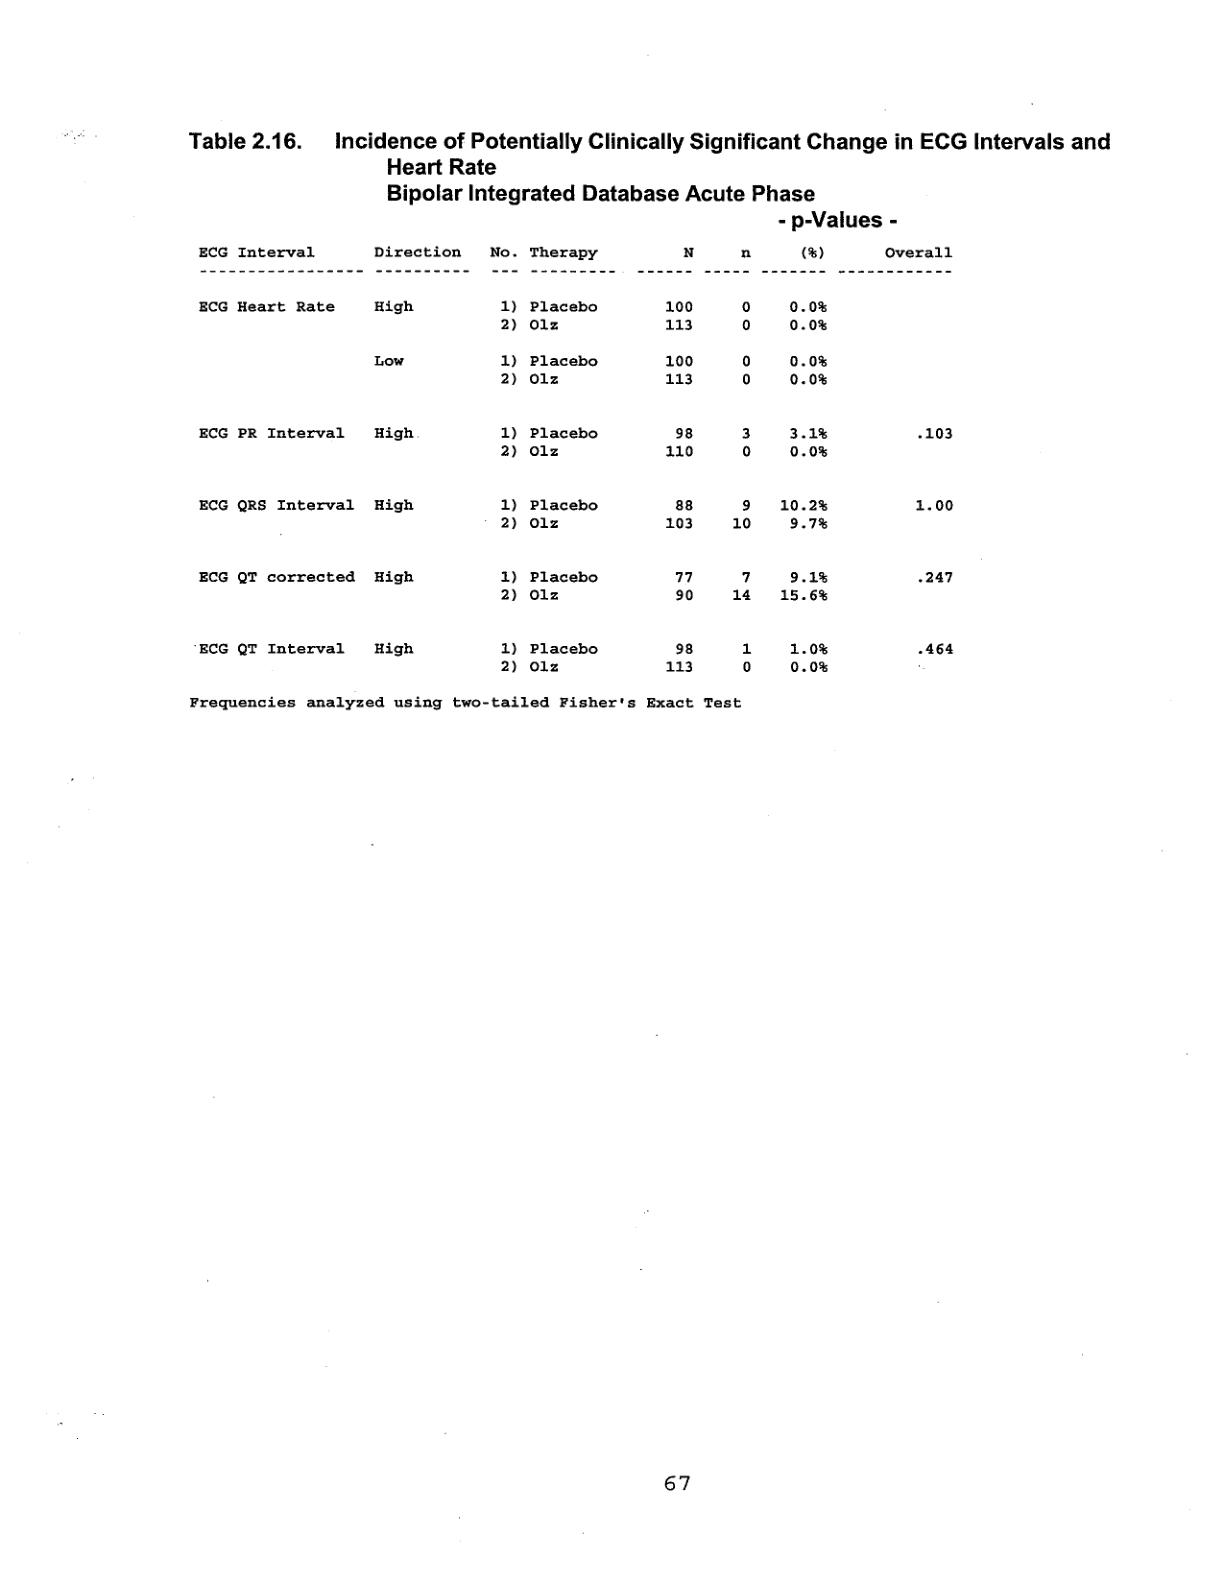nolines: (195, 241, 956, 675)
